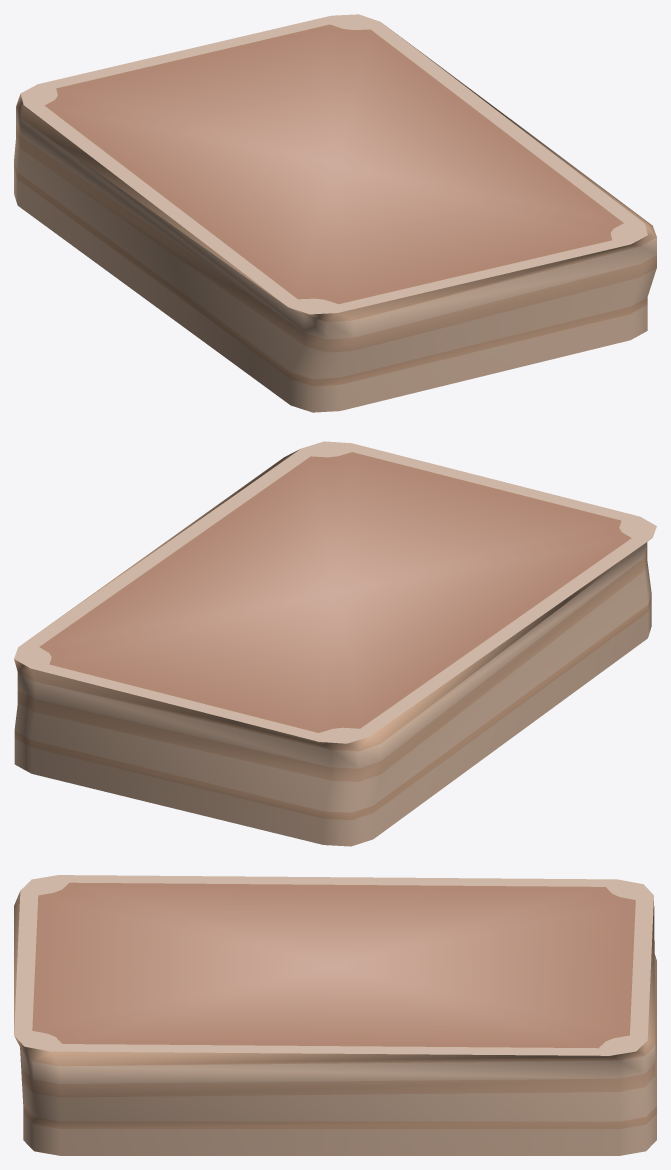
Rendered from TarotCardStack3.fbx.
The picture shows the model from 3 angles, top to bottom: view 1: azimuth 30°, elevation 25°; view 2: azimuth 150°, elevation 25°; view 3: azimuth 270°, elevation 25°; orthographic projection. The views are drawn at different scales.
Parts seen in each view (by area): view 1: TarotCardStack3; view 2: TarotCardStack3; view 3: TarotCardStack3.
Part boxes in pixels (x1,y1,x2,y2): TarotCardStack3: [14, 14, 656, 412]; TarotCardStack3: [14, 441, 656, 846]; TarotCardStack3: [14, 875, 656, 1155].
Size of the model in its own units: 6 by 1.57 by 8.93.
